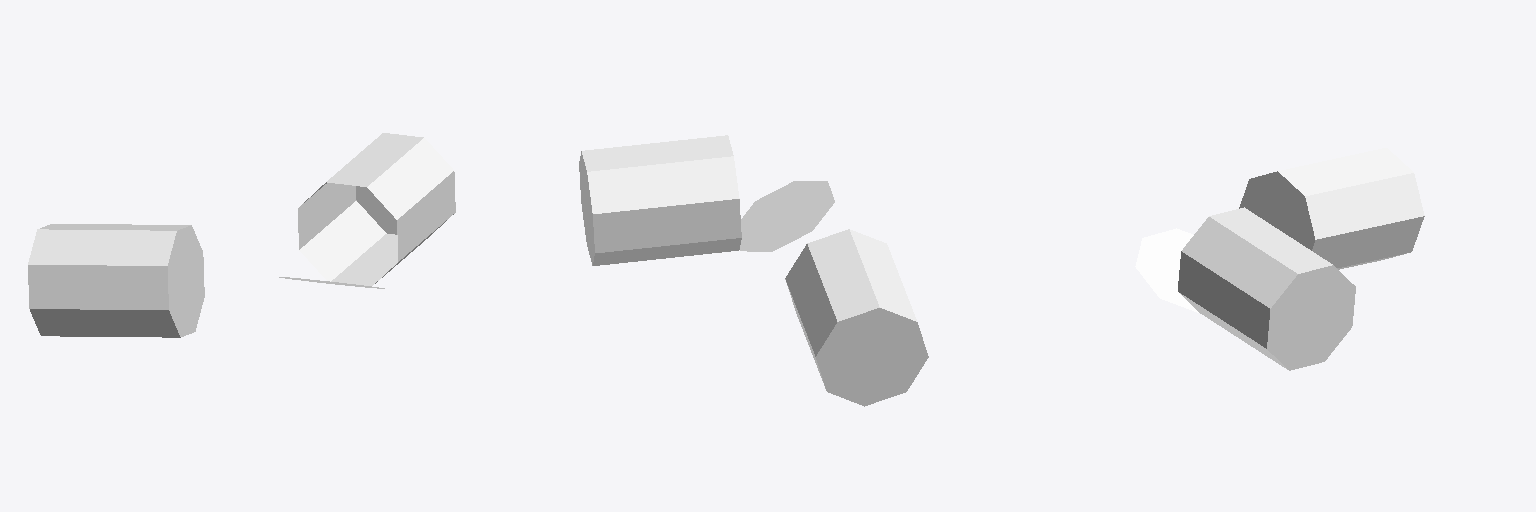
The model's file is metal_cans_debris_1.obj.
3 views of the same model, side by side, from view 1: azimuth 30°, elevation 25°; view 2: azimuth 150°, elevation 25°; view 3: azimuth 270°, elevation 25° (orthographic).
Visible parts, largest first — view 1: can_2, can_5; view 2: can_5, can_2, can_5_lid; view 3: can_5, can_2, can_5_lid.
Part boxes in pixels (x1,y1,x2,y2): can_2: (28,224,204,337); can_5: (298,133,455,285); can_5: (579,135,741,265); can_2: (785,229,928,406); can_5_lid: (740,181,834,251); can_5: (1178,207,1355,370); can_2: (1239,148,1424,269); can_5_lid: (1135,228,1198,312).
Bounding box in the file's own units: 1.04 × 0.3909 × 0.6713.